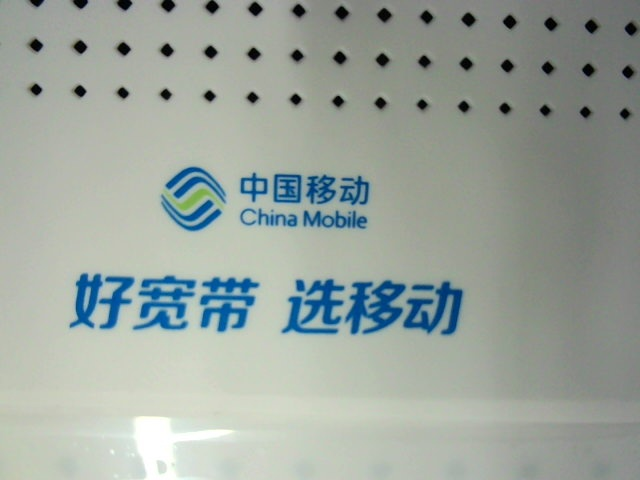AA_ChinaMoble: (67, 163, 467, 340)
